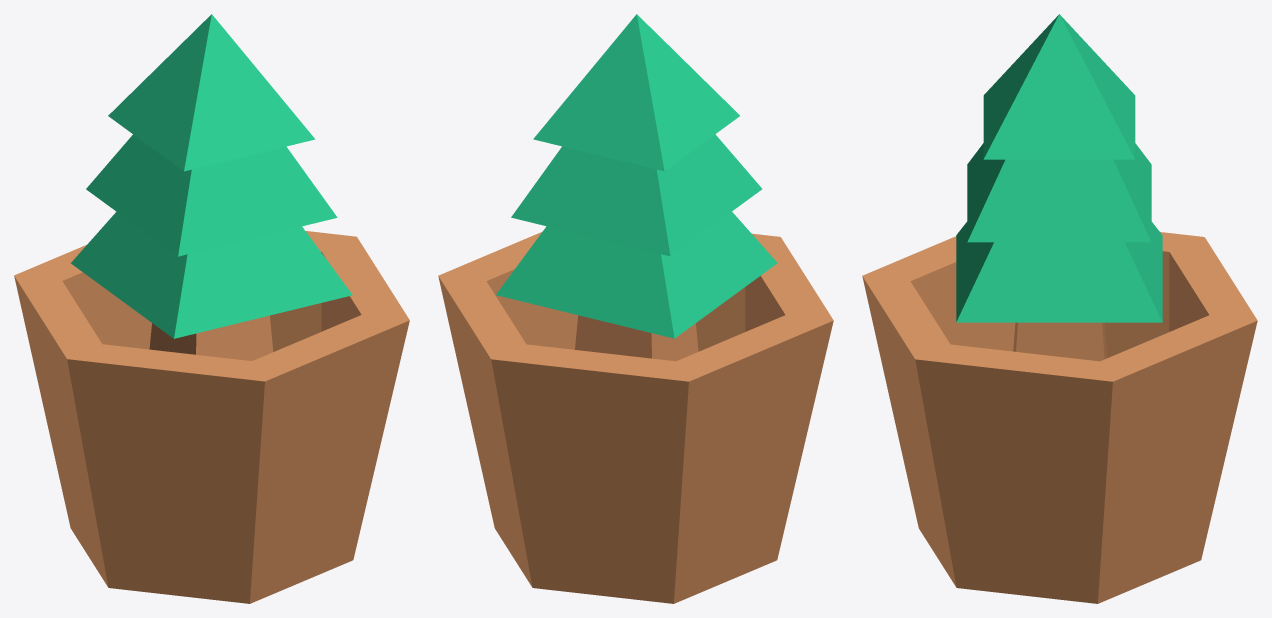
The model's file is Decor_Plant_Small.glb.
The picture shows the model from 3 angles, left to right: view 1: azimuth 30°, elevation 25°; view 2: azimuth 150°, elevation 25°; view 3: azimuth 270°, elevation 25°; orthographic projection.
Parts seen in each view (by area): view 1: plantSmall1; view 2: plantSmall1; view 3: plantSmall1.
Part boxes in pixels (x1,y1,x2,y2): plantSmall1: (14, 14, 409, 603); plantSmall1: (438, 14, 833, 603); plantSmall1: (862, 14, 1257, 603).
Size of the model in its own units: 0.0947 by 0.14 by 0.0947.
